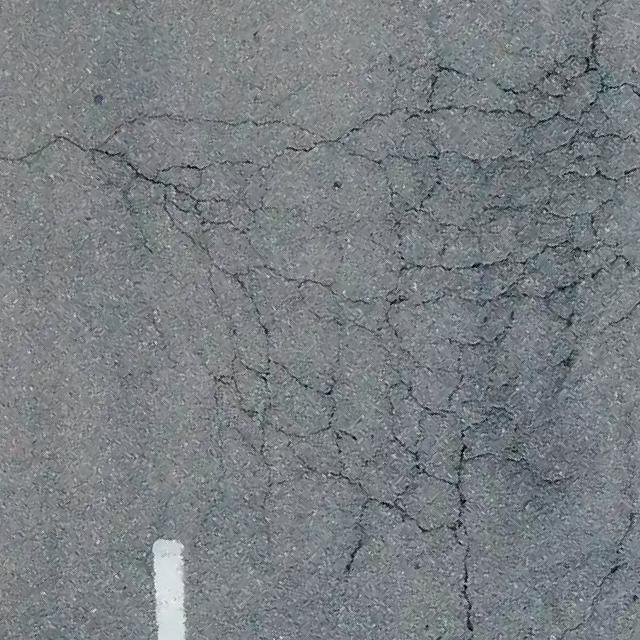GRIETA: (556, 561, 630, 639), (0, 135, 85, 161), (455, 536, 475, 636), (345, 508, 366, 573), (589, 0, 612, 53), (615, 511, 638, 555)
PIEL DE COCODRILO: (91, 42, 639, 548)
